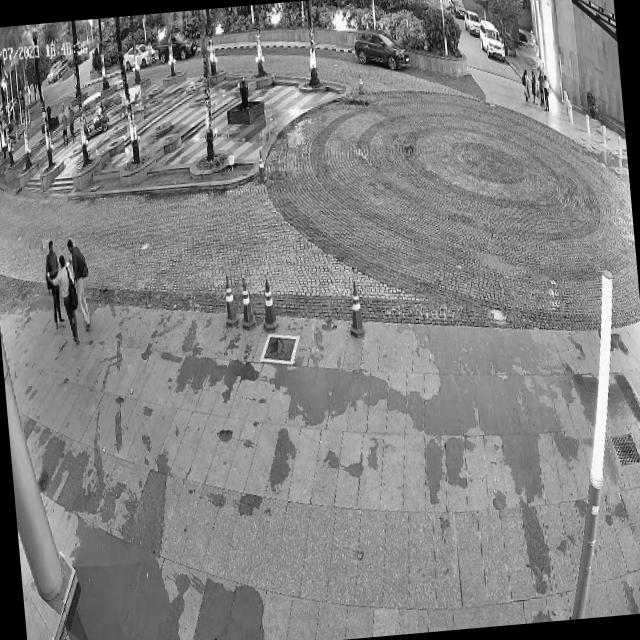person: (68, 231, 95, 334), (56, 252, 80, 348), (42, 235, 64, 328)
